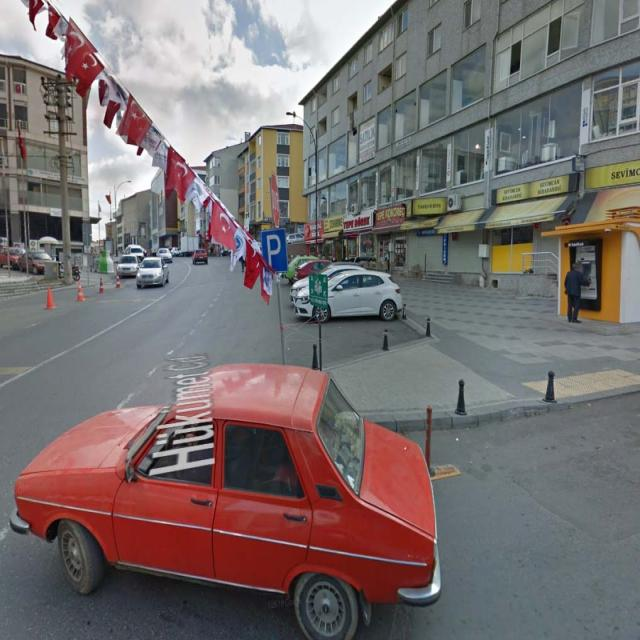park: (262, 230, 286, 272)
